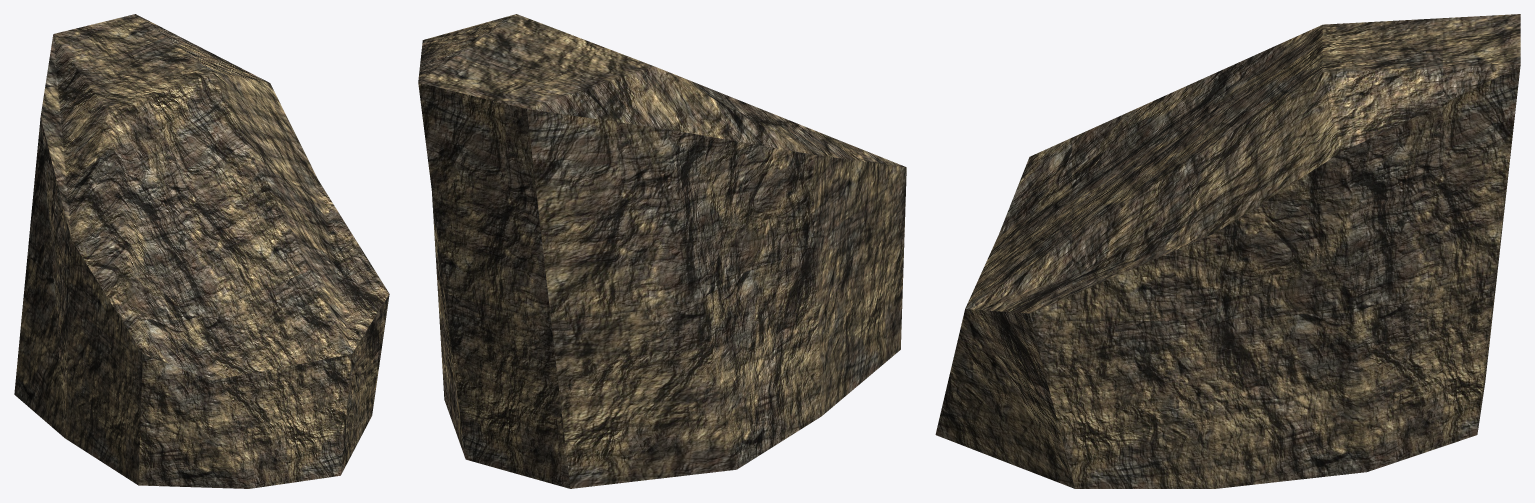
File: big rock 3.obj
The picture shows the model from 3 angles, left to right: view 1: azimuth 30°, elevation 25°; view 2: azimuth 150°, elevation 25°; view 3: azimuth 270°, elevation 25°; orthographic projection. The views are drawn at different scales.
Parts seen in each view (by area): view 1: Cube; view 2: Cube; view 3: Cube.
Part boxes in pixels (left/top/right/bottom): Cube: left=14, top=14, right=389, bottom=488; Cube: left=418, top=14, right=906, bottom=488; Cube: left=935, top=14, right=1520, bottom=488.
Bounding box in the file's own units: 2.05 × 2.52 × 3.15.
